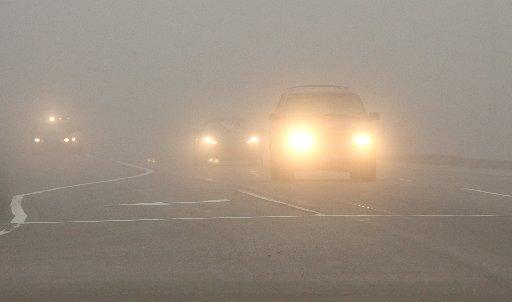car: (263, 84, 383, 183), (194, 116, 262, 168), (31, 112, 81, 156)
